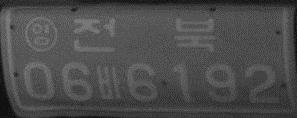0: (22, 60, 55, 100)
1: (167, 61, 196, 103)
2: (243, 62, 280, 105)
6: (61, 62, 93, 102), (126, 62, 158, 102)
9: (204, 62, 237, 104)
바: (95, 64, 122, 101)
영: (23, 16, 58, 53)
전북_D: (73, 17, 216, 55)
